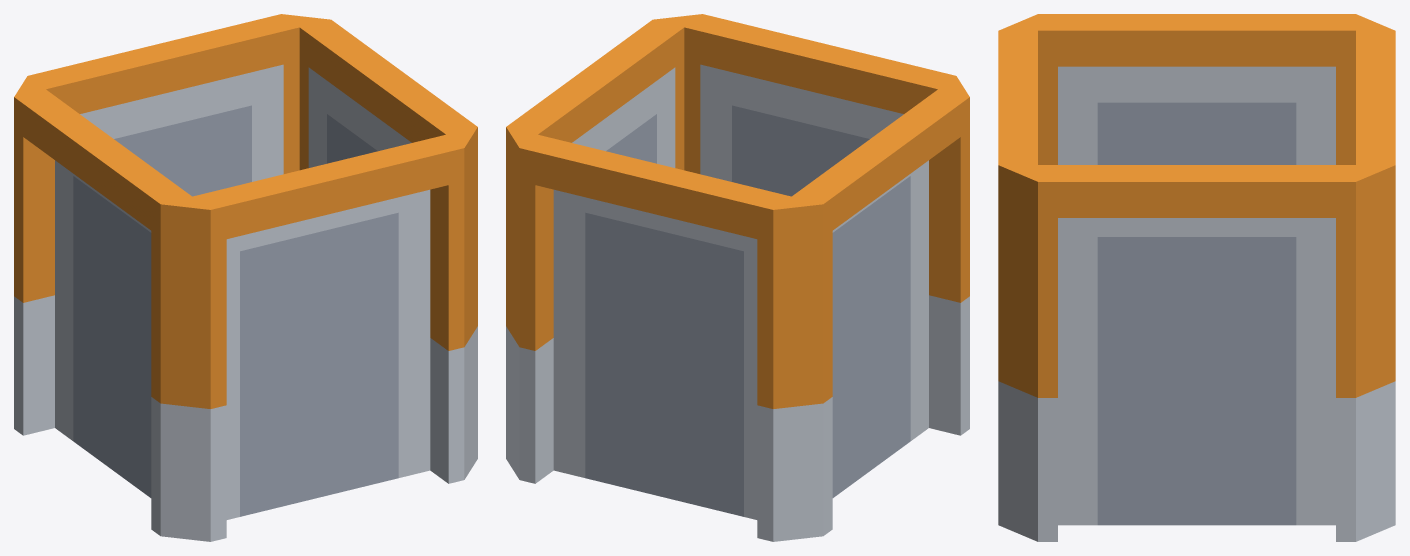
Rendered from structure_closed.dae.
3 renders of one model, left to right at view 1: azimuth 30°, elevation 25°; view 2: azimuth 150°, elevation 25°; view 3: azimuth 270°, elevation 25°, orthographic. The views are drawn at different scales.
Visible parts, largest first — view 1: structure_closed; view 2: structure_closed; view 3: structure_closed.
Part boxes in pixels (x1,y1,x2,y2): structure_closed: [14, 14, 477, 541]; structure_closed: [506, 14, 969, 541]; structure_closed: [998, 14, 1395, 541].
Bounding box in the file's own units: 1 × 1 × 1.
